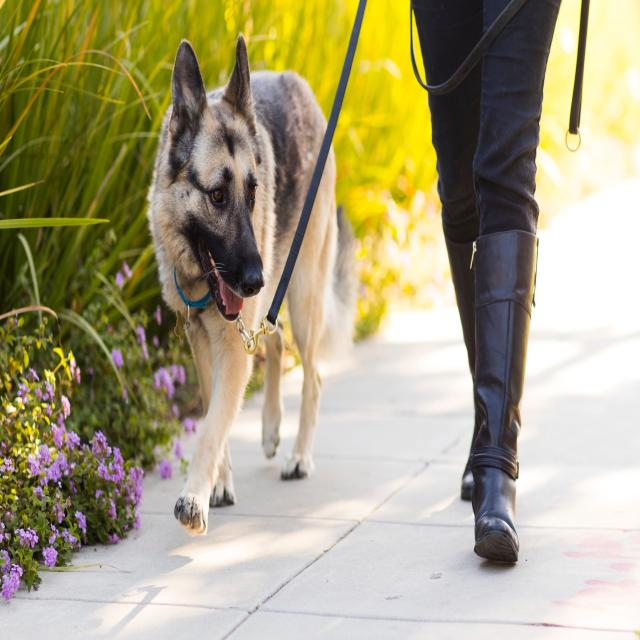GERMAN_SHEPHERD: (131, 32, 360, 529)
